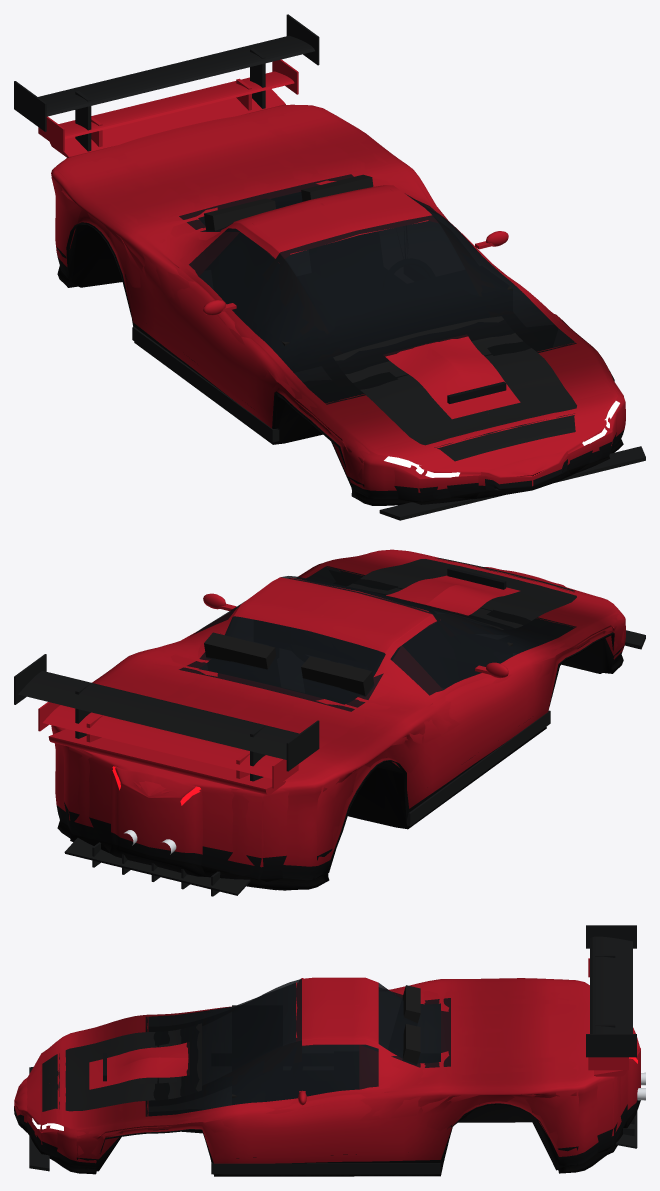
Rendered from sr_lamborghini_centenario.glb.
3 renders of one model, top to bottom at view 1: azimuth 30°, elevation 25°; view 2: azimuth 150°, elevation 25°; view 3: azimuth 270°, elevation 25°, orthographic. The views are drawn at different scales.
Visible parts, largest first — view 1: body (×2), hood_3, spoiler_3, hood_1, spoiler_2, bumper_1, spoiler_1, interior, mirrors; view 2: body (×2), spoiler_3, spoiler_2, bumper_1, hood_3, spoiler_1, interior, hood_1, mirrors, hood_1_intake; view 3: body (×2), spoiler_3, hood_3, bumper_1, hood_1, interior, spoiler_2.
Part boxes in pixels (bbox=[...]): body (×2): bbox=[51, 104, 625, 505]; hood_3: bbox=[333, 316, 576, 461]; spoiler_3: bbox=[14, 14, 319, 151]; hood_1: bbox=[385, 336, 520, 419]; spoiler_2: bbox=[38, 59, 298, 151]; bumper_1: bbox=[132, 327, 645, 520]; spoiler_1: bbox=[50, 89, 285, 157]; interior: bbox=[204, 174, 512, 345]; mirrors: bbox=[203, 231, 508, 315]; body (×2): bbox=[51, 549, 625, 890]; spoiler_3: bbox=[14, 654, 319, 781]; spoiler_2: bbox=[38, 702, 298, 788]; bumper_1: bbox=[64, 630, 645, 896]; hood_3: bbox=[346, 558, 576, 629]; spoiler_1: bbox=[48, 729, 285, 795]; interior: bbox=[204, 632, 512, 695]; hood_1: bbox=[386, 575, 519, 615]; mirrors: bbox=[203, 593, 508, 678]; hood_1_intake: bbox=[447, 567, 506, 589]; body (×2): bbox=[14, 977, 640, 1176]; spoiler_3: bbox=[586, 925, 636, 1057]; hood_3: bbox=[42, 1023, 201, 1111]; bumper_1: bbox=[29, 1067, 637, 1174]; hood_1: bbox=[89, 1042, 188, 1089]; interior: bbox=[232, 985, 420, 1098]; spoiler_2: bbox=[588, 958, 628, 1070].
Size of the model in its own units: 2.27 by 1.25 by 4.97.
